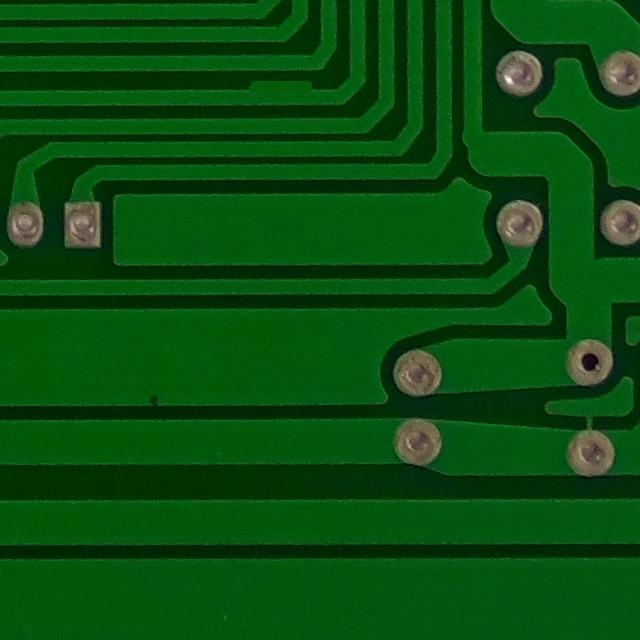spur: (240, 70, 323, 104)
